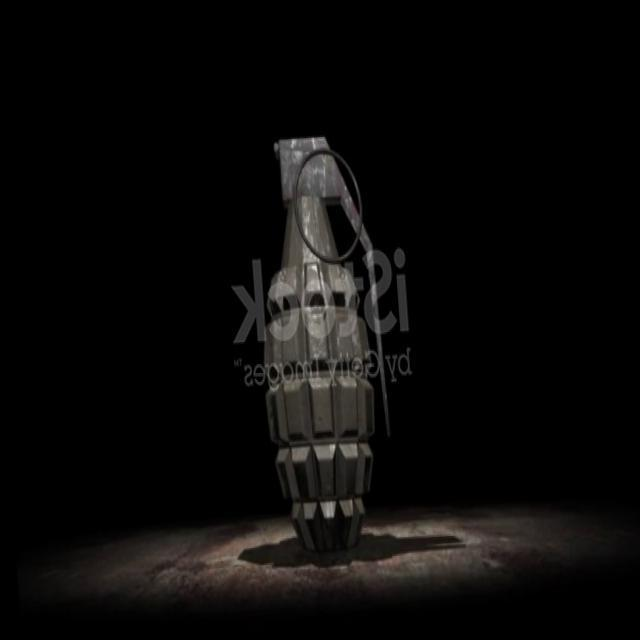grenade: (240, 113, 400, 572)
